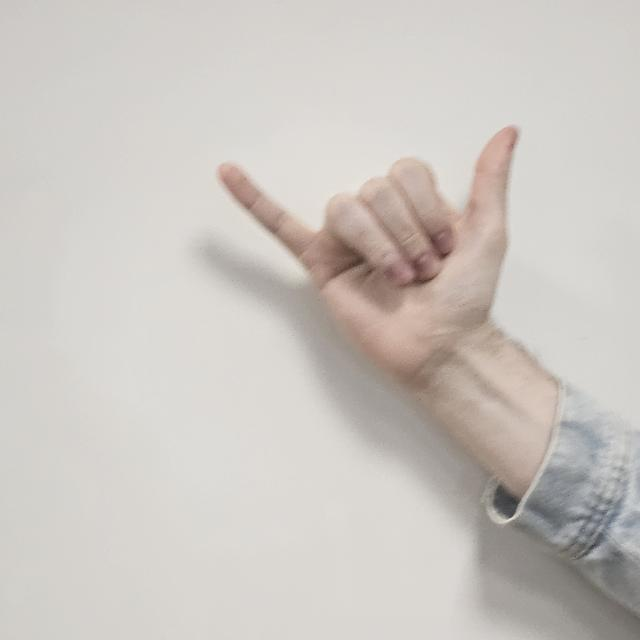Direita: (204, 120, 556, 396)
